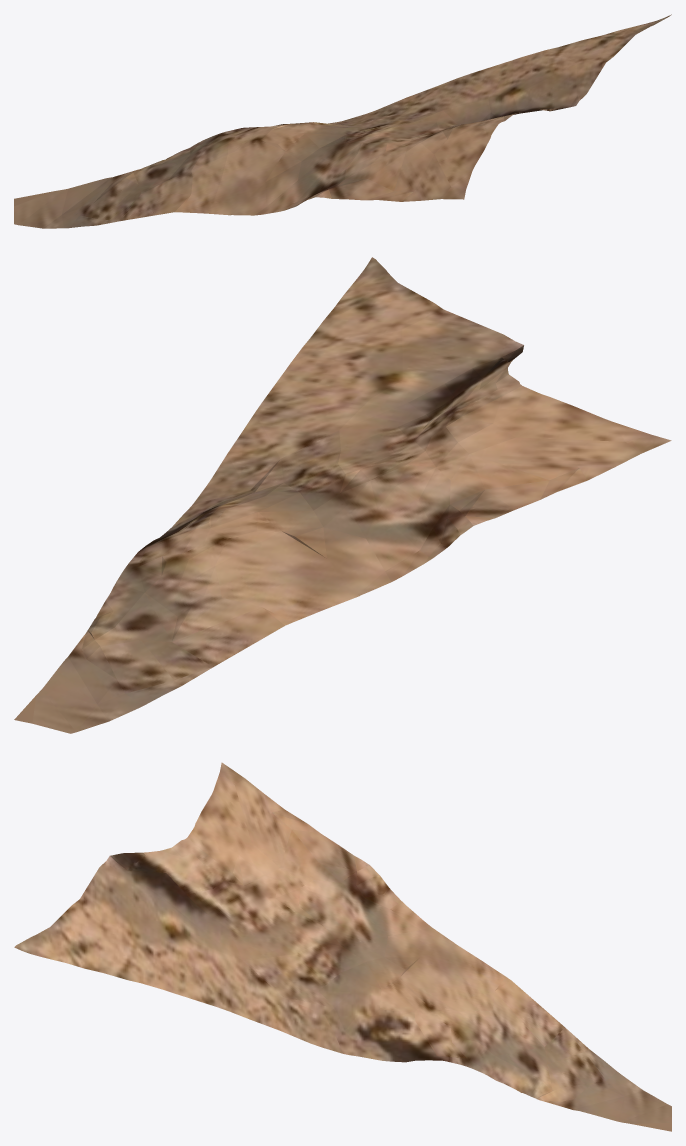
3 renders of one model, top to bottom at view 1: azimuth 90°, elevation 25°; view 2: azimuth 150°, elevation 25°; view 3: azimuth 270°, elevation 25°, orthographic. The views are drawn at different scales.
Bounding box in the file's own units: 1.78 × 0.8294 × 2.68.
Materials: 1 (1 with a texture image).
